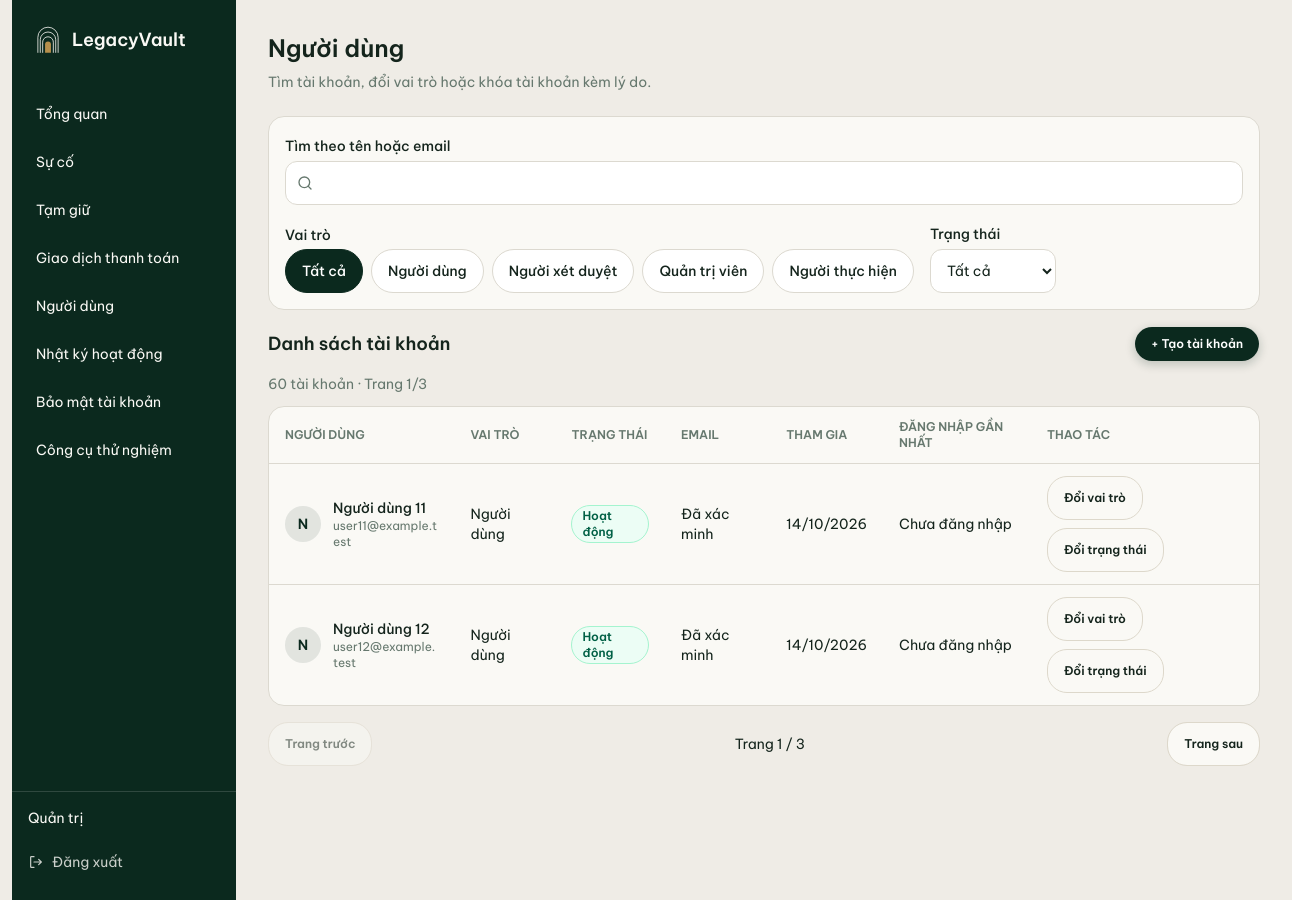
Test: phân trang theo hasNextPage của BE và hiển thị nhãn tiếng Việt
The width and height of the screenshot is (1292, 900).
Check: the button "Trang trước" is disabled, box [268,722,372,766]
Check: the number of cells "Người dùng" is 2, box [454,464,556,584]; [454,584,556,705]
Step 1. Click the button "Trang sau" → (1214, 744), box [1167,722,1260,766]
(page scrolled)
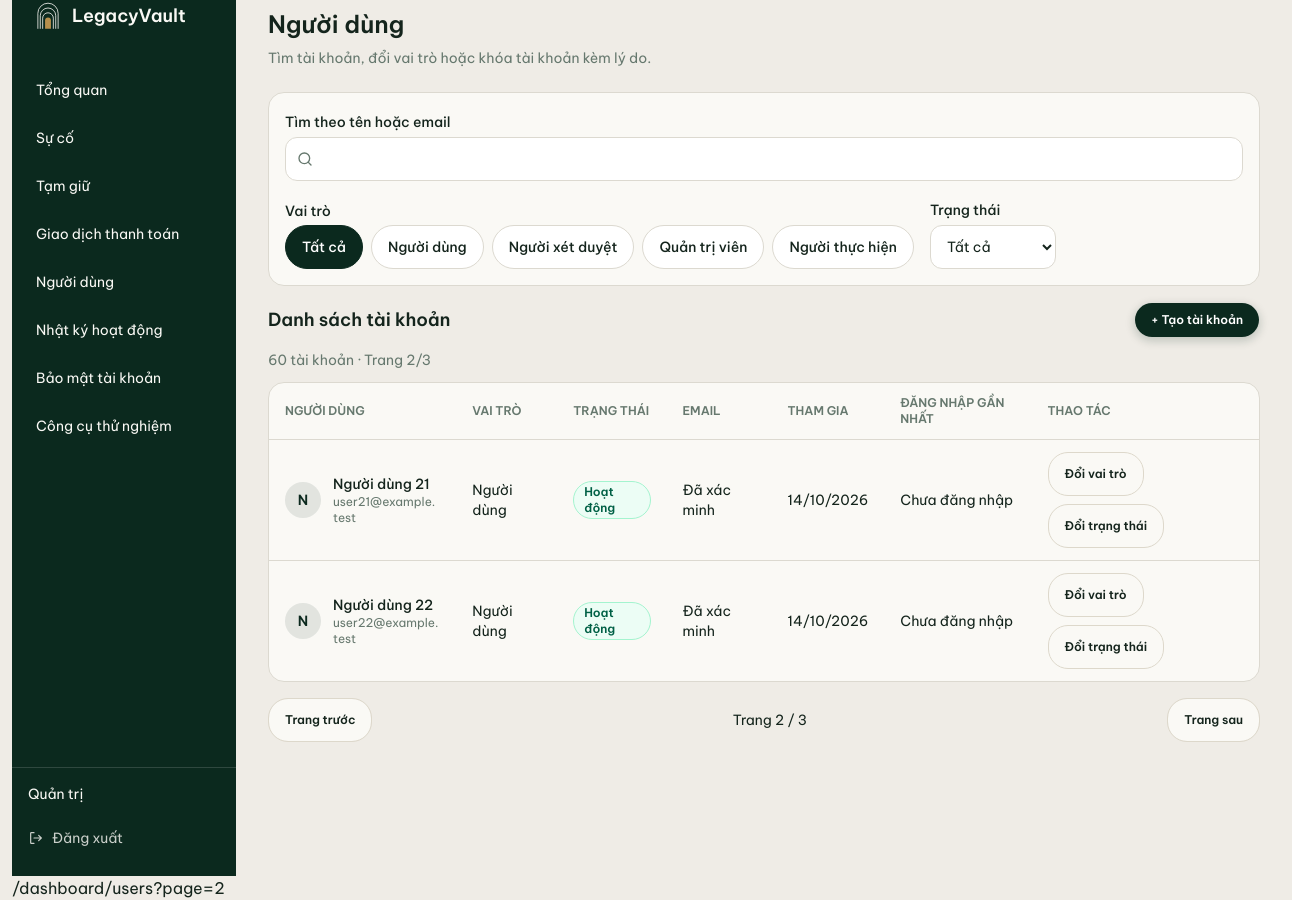
Check: the text with test id "location" shows "page=2", box [12,878,225,898]
